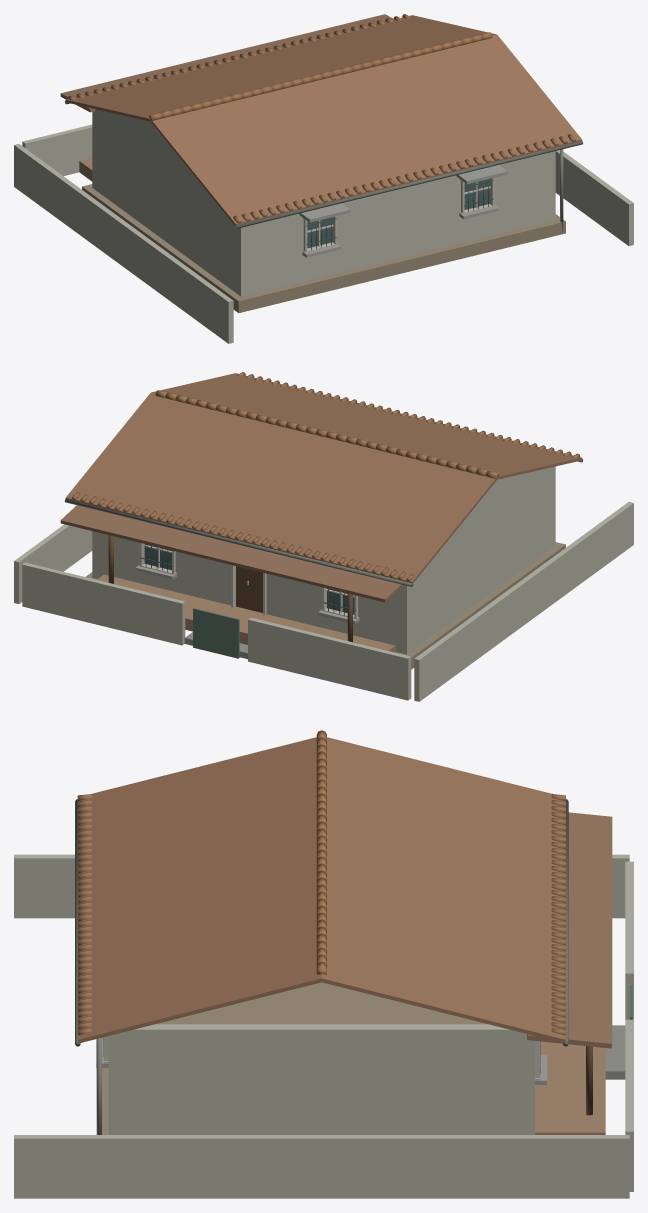
Rendered from courtyard_house.glb.
3 renders of one model, top to bottom at view 1: azimuth 30°, elevation 25°; view 2: azimuth 150°, elevation 25°; view 3: azimuth 270°, elevation 25°, orthographic. The views are drawn at different scales.
Visible parts, largest first — view 1: courtyard_house; view 2: courtyard_house; view 3: courtyard_house.
Boxes of the visible parts, bbox=[...] form: courtyard_house: bbox=[14, 14, 633, 343]; courtyard_house: bbox=[14, 372, 633, 701]; courtyard_house: bbox=[14, 730, 633, 1198].
Size of the model in its own units: 14.18 by 4.78 by 13.09.
